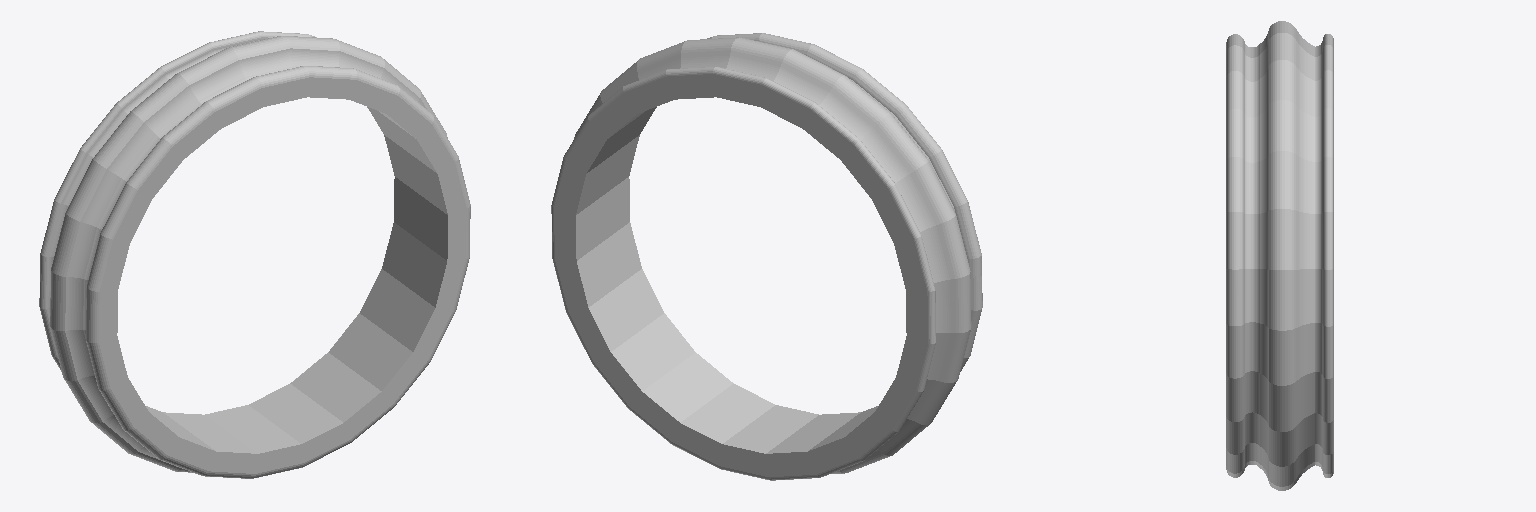
Rendered from obroci1-3_centered.obj.
3 renders of one model, left to right at view 1: azimuth 30°, elevation 25°; view 2: azimuth 150°, elevation 25°; view 3: azimuth 270°, elevation 25°, orthographic.
Visible parts, largest first — view 1: animacija-SKP-Default_Material; view 2: animacija-SKP-Default_Material; view 3: animacija-SKP-Default_Material.
Part boxes in pixels (x1,y1,x2,y2): animacija-SKP-Default_Material: (39,31,470,478); animacija-SKP-Default_Material: (551,33,982,480); animacija-SKP-Default_Material: (1226,21,1333,490).
Size of the model in its own units: 0.2616 by 0.2616 by 0.06.